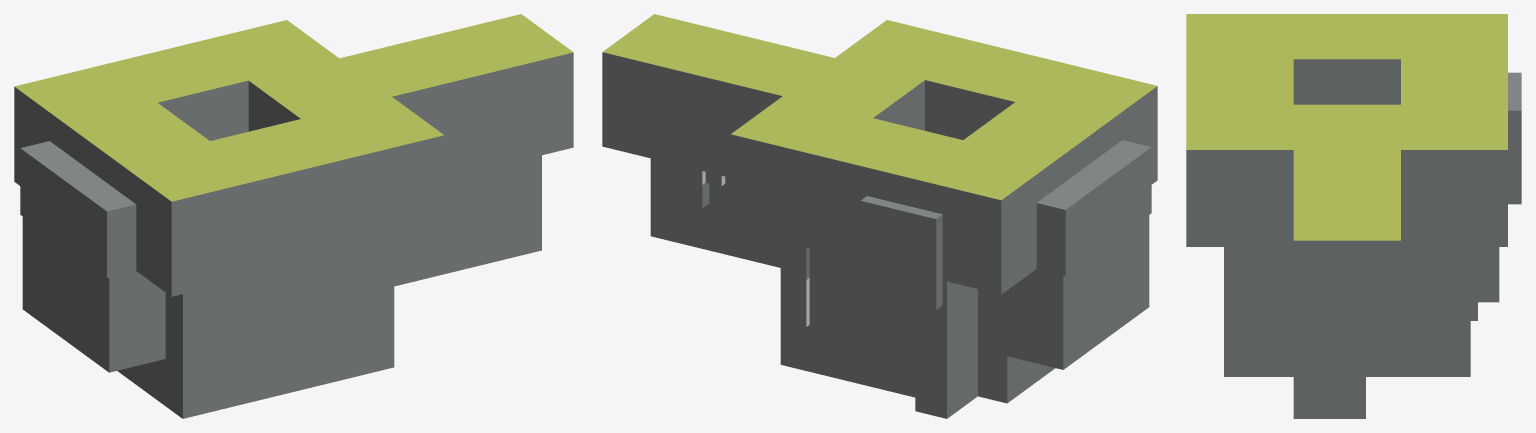
Rendered from LEVEL_0.fbx.
The picture shows the model from 3 angles, left to right: view 1: azimuth 30°, elevation 25°; view 2: azimuth 150°, elevation 25°; view 3: azimuth 270°, elevation 25°; orthographic projection. The views are drawn at different scales.
Parts seen in each view (by area): view 1: Cube; view 2: Cube; view 3: Cube.
Boxes of the visible parts, bbox=[...] form: Cube: bbox=[14, 14, 573, 418]; Cube: bbox=[602, 14, 1157, 418]; Cube: bbox=[1186, 14, 1521, 418].
Size of the model in its own units: 1064 by 500 by 625.
